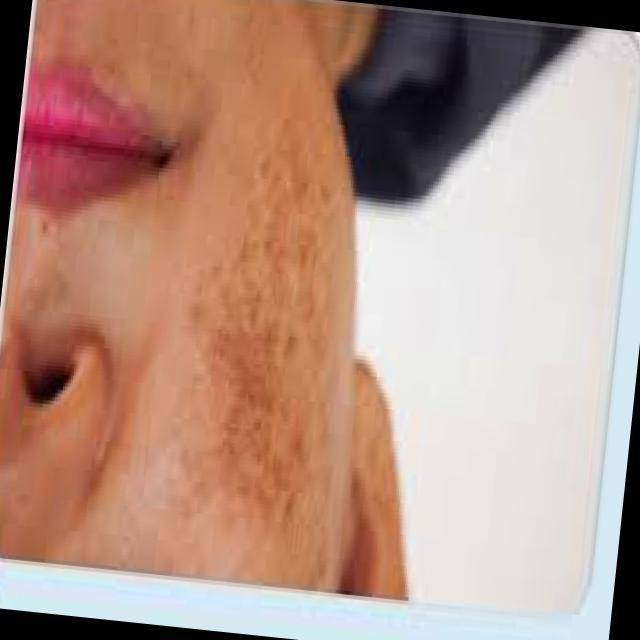Eczema: (191, 114, 342, 563)
